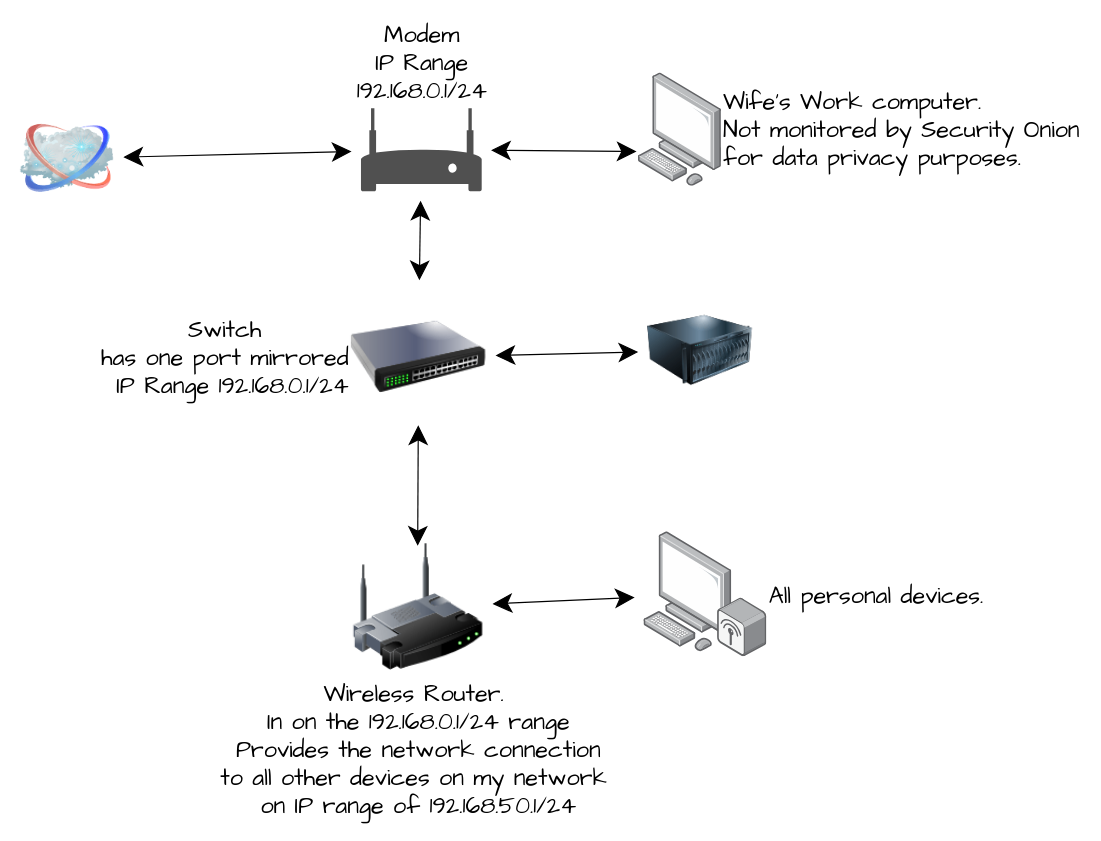
Image size: 1101x841. Some labels were removed from this diagram. The shapes that lost their labels are listed below. From the top down, each one's centre as x and y in pixels, then its label:
(66,158): Internet
(699,349): Linux Server Runs Virtualbox Has Security Onion
